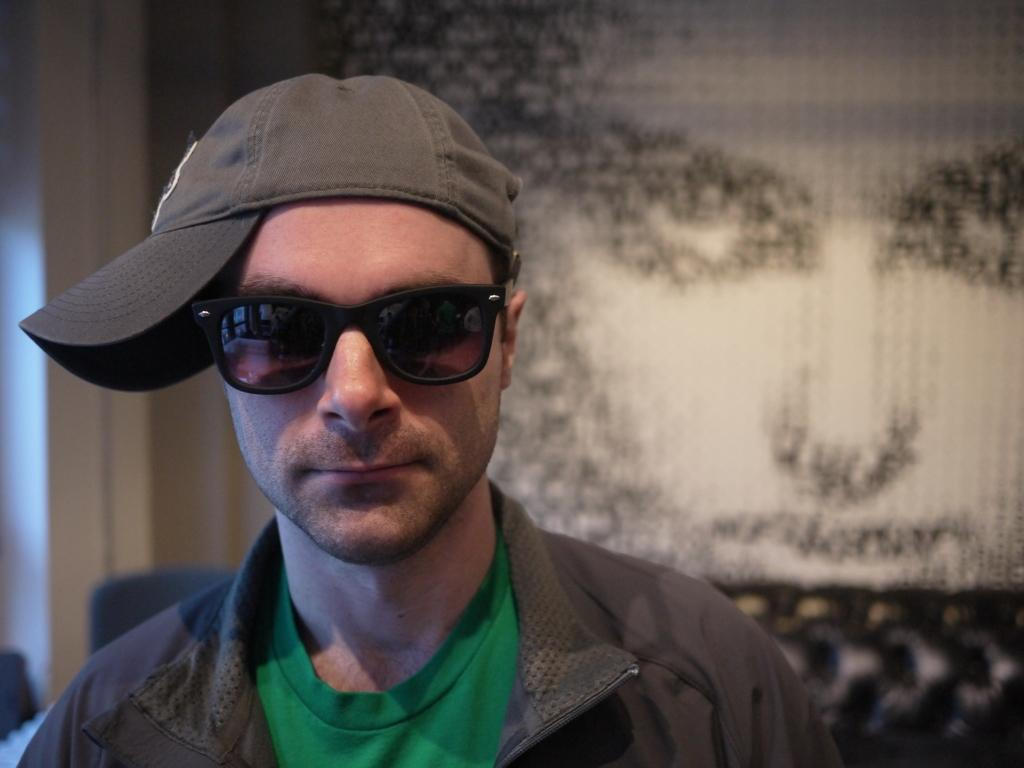Hat: (17, 77, 524, 394)
